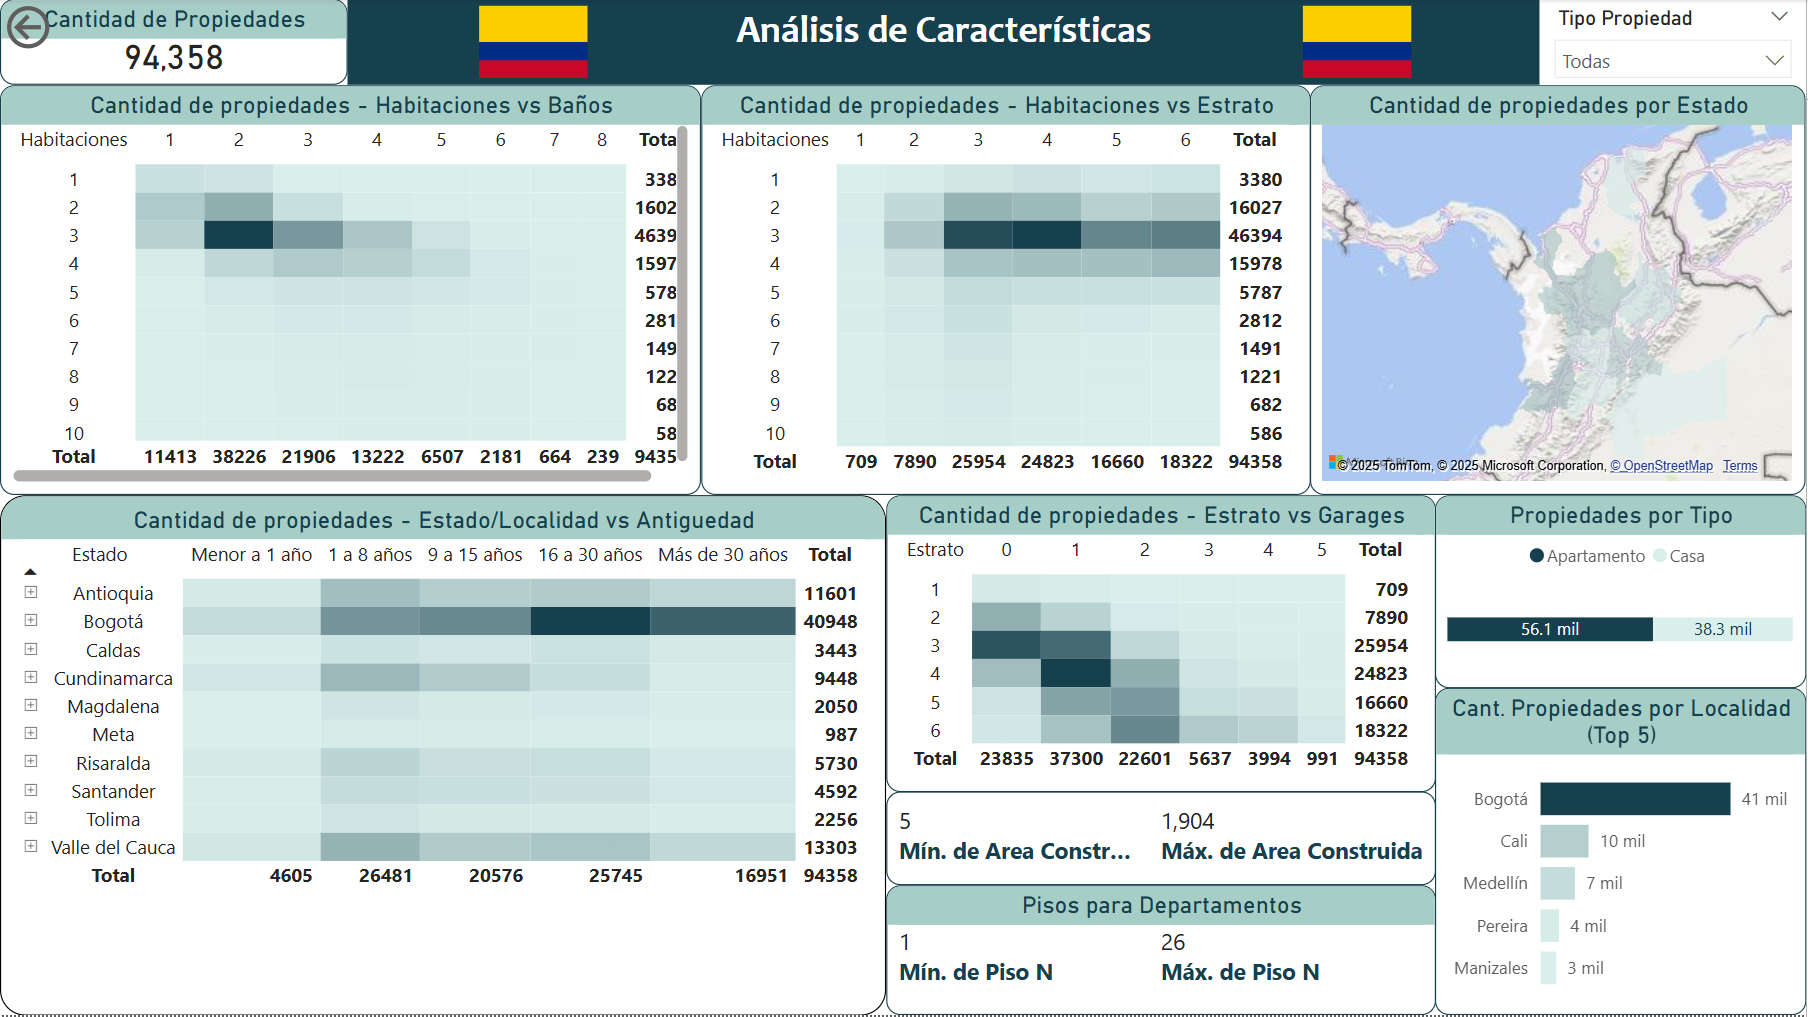

This screenshot's page, from the dashboard's own definition file:
{"tool":"powerbi","page":{"name":"Análisis de Características","canvas":[1280,720],"ordinal":0},"visuals":[{"type":"pivotTable","title":"Cantidad de propiedades - Habitaciones vs Baños","fields":{"Columns":["Props.Banos"],"Values":["CountNonNull(Props.Tipo Propiedad)"],"Rows":["Props.Habitaciones"]},"box":[0,61.1,497,290.6],"z":0},{"type":"pivotTable","title":"Cantidad de propiedades - Estrato vs Garages","fields":{"Columns":["Props.Garages"],"Values":["CountNonNull(Props.Tipo Propiedad)"],"Rows":["Props.Estrato"]},"box":[628.2,351.5,389.2,210.2],"z":1000},{"type":"slicer","fields":{"Values":["Props.Tipo Propiedad"]},"box":[1091.5,0,188.7,61.1],"z":2000},{"type":"pivotTable","title":"Cantidad de propiedades - Estado/Localidad vs Antiguedad","fields":{"Values":["CountNonNull(Props.Tipo Propiedad)"],"Rows":["Props.Estado","Props.Localidad"],"Columns":["Antiguedad Exp.Antiguedad"]},"box":[0,351.5,628.2,368.7],"z":3000},{"type":"card","title":"Cantidad de Propiedades","fields":{"Values":["CountNonNull(Props.Tipo Propiedad)"]},"box":[0,0,246.3,61.1],"z":4000},{"type":"textbox","box":[246.3,0,845.2,61.1],"z":5000},{"type":"pivotTable","title":"Cantidad de propiedades - Habitaciones vs Estrato","fields":{"Values":["CountNonNull(Props.Tipo Propiedad)"],"Rows":["Props.Habitaciones"],"Columns":["Props.Estrato"]},"box":[496.8,60.8,431.9,290.7],"z":6000},{"type":"image","box":[892.6,0,138,60.8],"z":7000},{"type":"image","box":[308.8,0,137.1,60.8],"z":8000},{"type":"filledMap","title":"Cantidad de propiedades por Estado","fields":{"Category":["Props.Estado"]},"box":[928.7,60.8,351.5,290.7],"z":9000},{"type":"actionButton","box":[0,0,100,40],"z":10000},{"type":"hundredPercentStackedBarChart","title":"Propiedades por Tipo","fields":{"Y":["CountNonNull(Props.Tipo Propiedad)"],"Series":["Props.Tipo Propiedad"]},"box":[1017.1,351.7,263.1,136.4],"z":11000},{"type":"multiRowCard","title":"Propiedades por Tipo","fields":{"Values":["Min(Props.Area Construida)","Max(Props.Area Construida)1"]},"box":[628.2,561.7,389.2,66.5],"z":12000},{"type":"multiRowCard","title":"Pisos para Departamentos","fields":{"Values":["Min(Props.Piso N)","Max(Props.Piso N)1"]},"box":[628.2,628.2,389.2,92],"z":13000},{"type":"barChart","title":"Cant. Propiedades por Localidad (Top 5)","fields":{"Y":["CountNonNull(Props.Tipo Propiedad)"],"Category":["Props.Localidad"]},"box":[1017.1,488.2,263.1,232.1],"z":14000}]}

Visuals, with their boxes in screenshot pixels (x1, y1, x2, y2), scaled from the page's 1280x720 canvas onto the 1808x1017 screenshot:
"Cantidad de propiedades - Habitaciones vs Baños" pivotTable: [0, 86, 702, 497]
"Cantidad de propiedades - Estrato vs Garages" pivotTable: [887, 496, 1437, 793]
slicer - Props.Tipo Propiedad: [1542, 0, 1807, 86]
"Cantidad de propiedades - Estado/Localidad vs Antiguedad" pivotTable: [0, 496, 887, 1016]
"Cantidad de Propiedades" card: [0, 0, 348, 86]
textbox: [348, 0, 1542, 86]
"Cantidad de propiedades - Habitaciones vs Estrato" pivotTable: [702, 86, 1312, 496]
image: [1261, 0, 1456, 86]
image: [436, 0, 630, 86]
"Cantidad de propiedades por Estado" filledMap: [1312, 86, 1807, 496]
actionButton: [0, 0, 141, 56]
"Propiedades por Tipo" hundredPercentStackedBarChart: [1437, 497, 1807, 689]
"Propiedades por Tipo" multiRowCard: [887, 793, 1437, 887]
"Pisos para Departamentos" multiRowCard: [887, 887, 1437, 1016]
"Cant. Propiedades por Localidad (Top 5)" barChart: [1437, 690, 1807, 1016]
